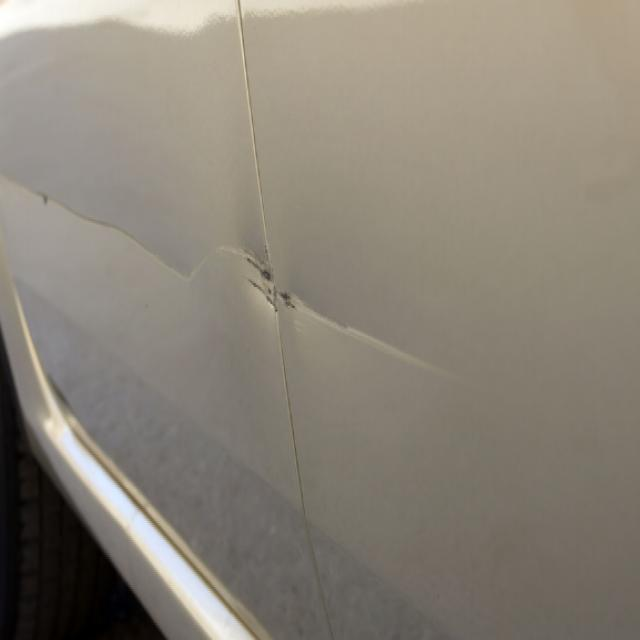dents: (157, 198, 402, 385)
